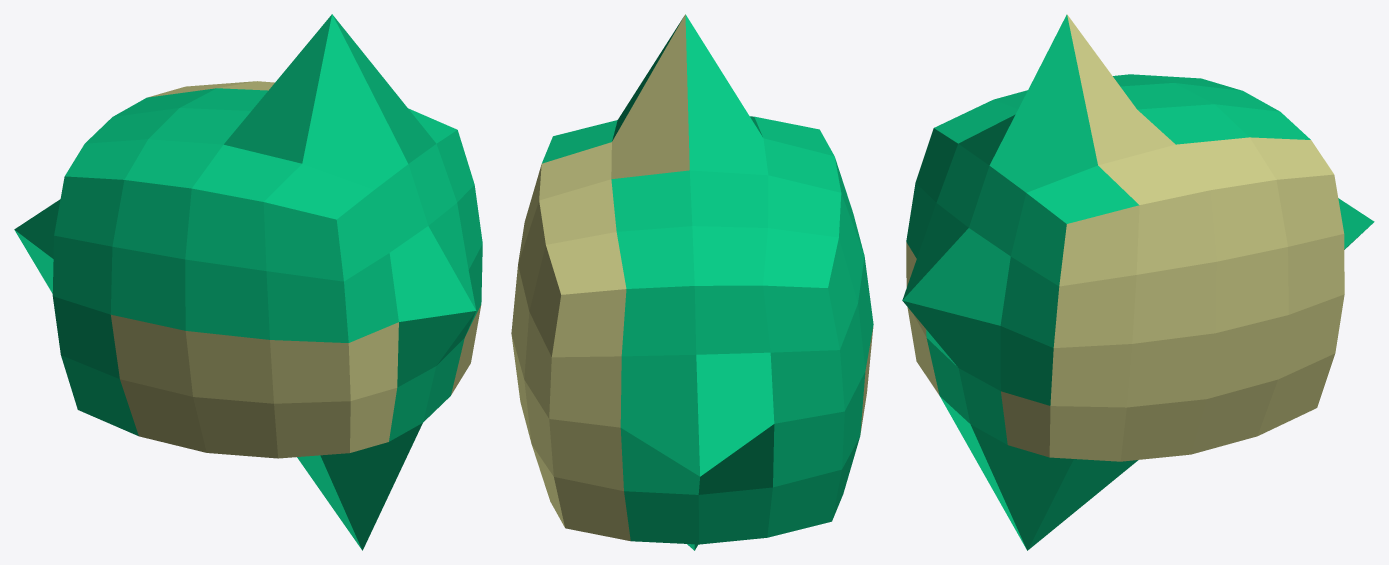
File: torso_upper.obj
3 views of the same model, side by side, from view 1: azimuth 30°, elevation 25°; view 2: azimuth 150°, elevation 25°; view 3: azimuth 270°, elevation 25° (orthographic). The views are drawn at different scales.
Visible parts, largest first — view 1: torso_upper; view 2: torso_upper; view 3: torso_upper.
Boxes of the visible parts, x1,y1,x2,y2 form: torso_upper: (14,14,482,550); torso_upper: (511,14,873,550); torso_upper: (902,14,1374,550).
Size of the model in its own units: 1.83 by 2.55 by 2.05.
